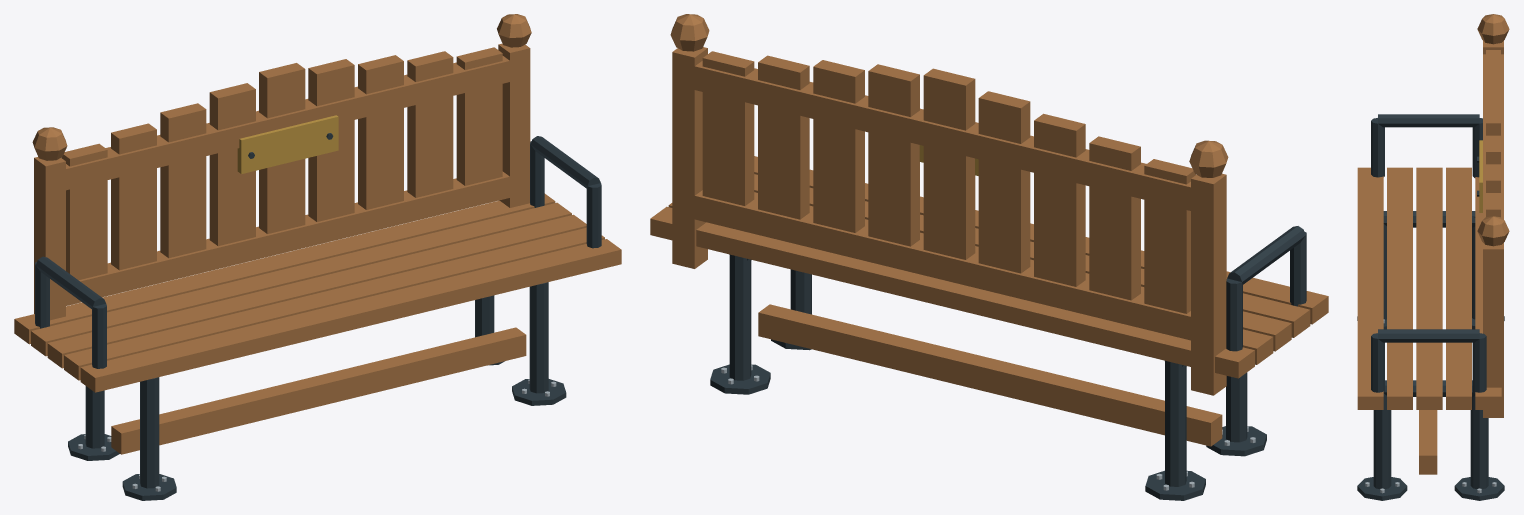
Rendered from b01_memorial_wood_bench.glb.
The picture shows the model from 3 angles, left to right: view 1: azimuth 30°, elevation 25°; view 2: azimuth 150°, elevation 25°; view 3: azimuth 270°, elevation 25°; orthographic projection. The views are drawn at different scales.
Parts seen in each view (by area): view 1: b01_memorial_wood_bench; view 2: b01_memorial_wood_bench; view 3: b01_memorial_wood_bench.
Boxes of the visible parts, left/top/right/bottom form: b01_memorial_wood_bench: left=14, top=14, right=621, bottom=500; b01_memorial_wood_bench: left=650, top=14, right=1328, bottom=500; b01_memorial_wood_bench: left=1357, top=14, right=1509, bottom=500.
Bounding box in the file's own units: 1.95 × 1.15 × 0.5476.
